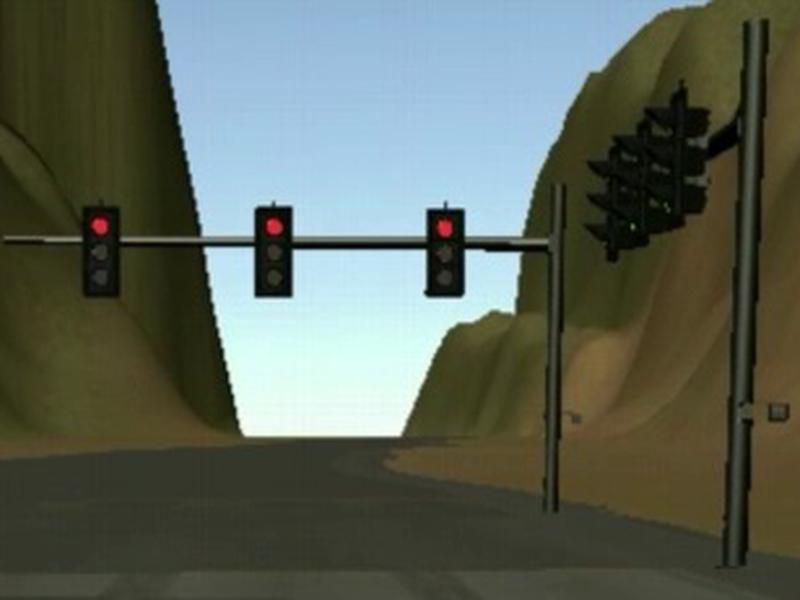Red: (424, 208, 466, 297), (254, 207, 293, 298), (83, 207, 119, 297)
